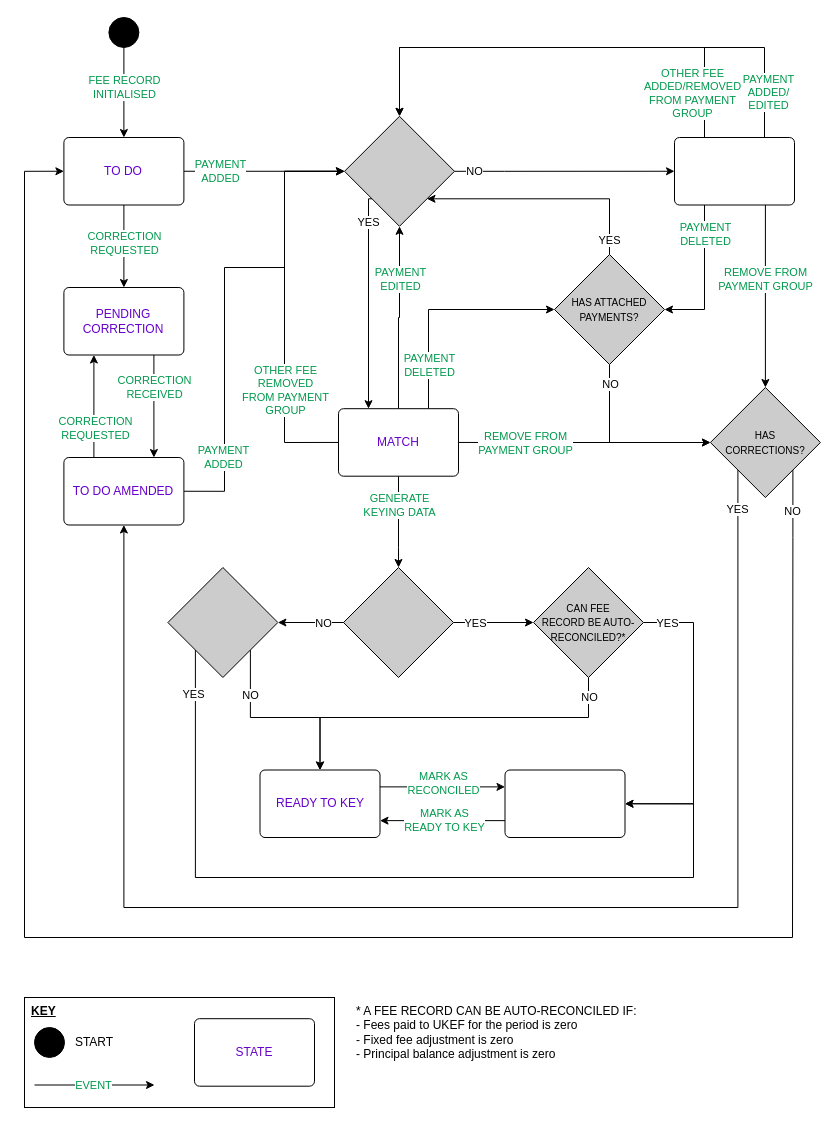
Image size: 838x1125. Some labels were removed from this diagram. The shapes that lost their labels are listed below. From the top down, each one's centre as x and y in pixels, then its label:
At point (399, 170): "FEE RECORDS AND PAYMENTS MATCH?".
At point (734, 170): "DOES NOT MATCH".
At point (222, 622): "ZERO FEES PAID FOR PERIOD?".
At point (398, 622): "IS FINAL FEE RECORD FOR FACILITY?".
At point (564, 803): "RECONCILED".
